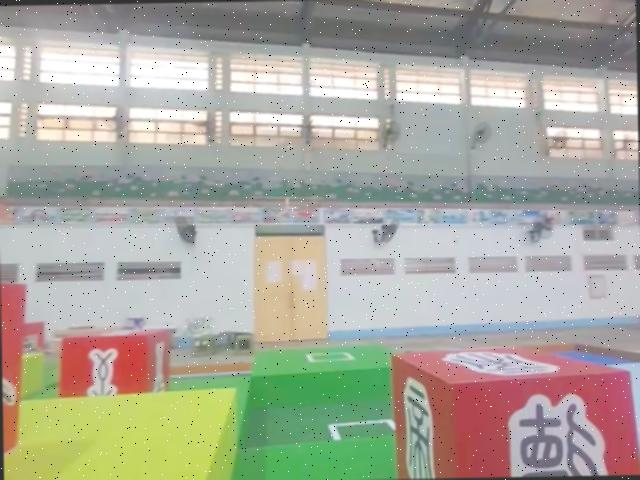R2 Fake: (396, 342, 640, 478)
R2 Real: (56, 324, 176, 403)
